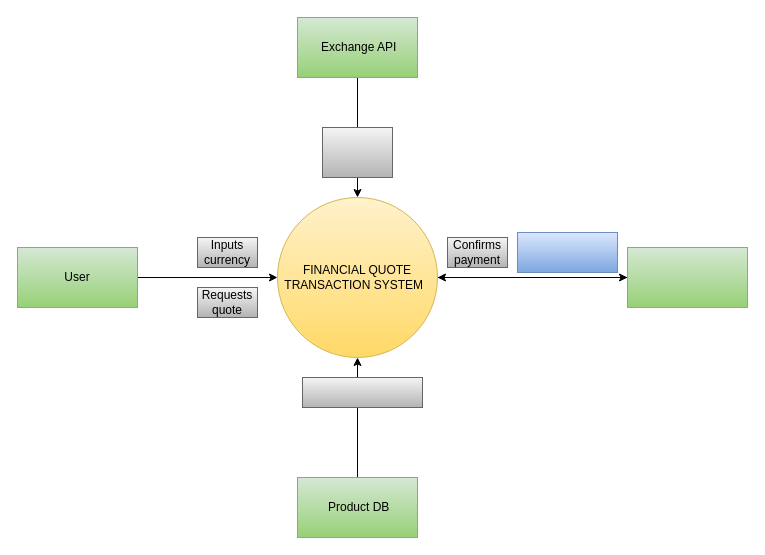
This 765x555 diagram has some shape labels left out. The shapes that lost their labels are listed below. From the top down, each one's box as (x1, y1, x2, y2) in pixels, then its label:
(322, 126, 392, 178): (Provides exchange rate)
(516, 232, 618, 272): Returns approval/rejection
(626, 246, 748, 308): Bank System
(302, 376, 422, 408): Provides:Database
